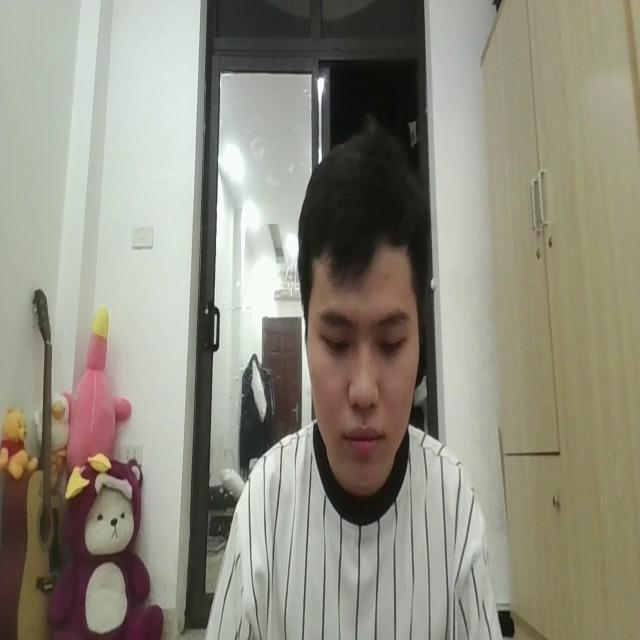student: (197, 114, 499, 640)
